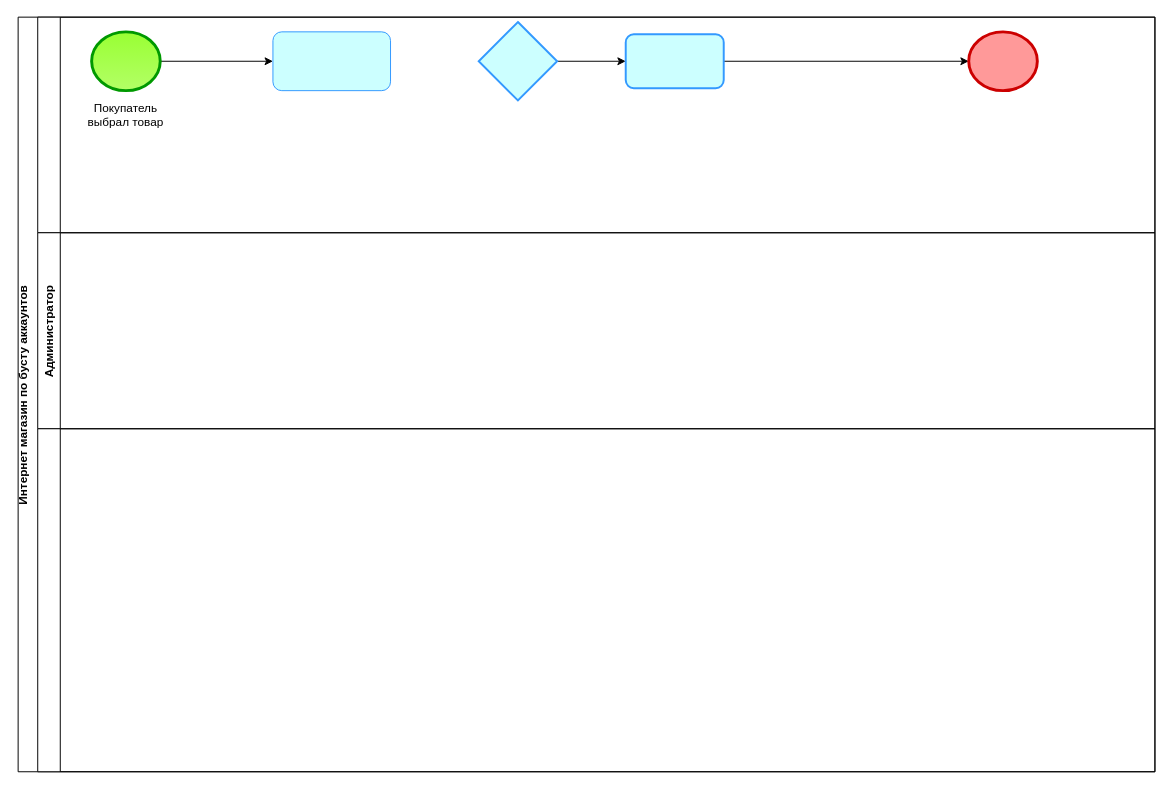
Image size: 1172x789. Some labels were removed from this diagram. Each missing label, with the box of its shape:
Клиент: (37, 16, 1155, 233)
Команда по бустингу: (37, 428, 1155, 772)
